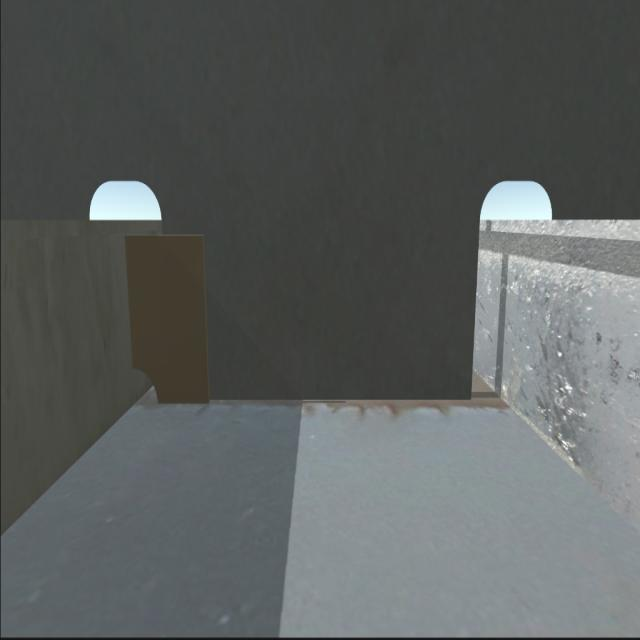fillet_hole: (129, 362, 165, 408)
fillet_yong_jeop_jang: (155, 392, 473, 406)
longi_yong_jeop_jang: (118, 231, 141, 365)
plate_CP01: (124, 237, 211, 403)
